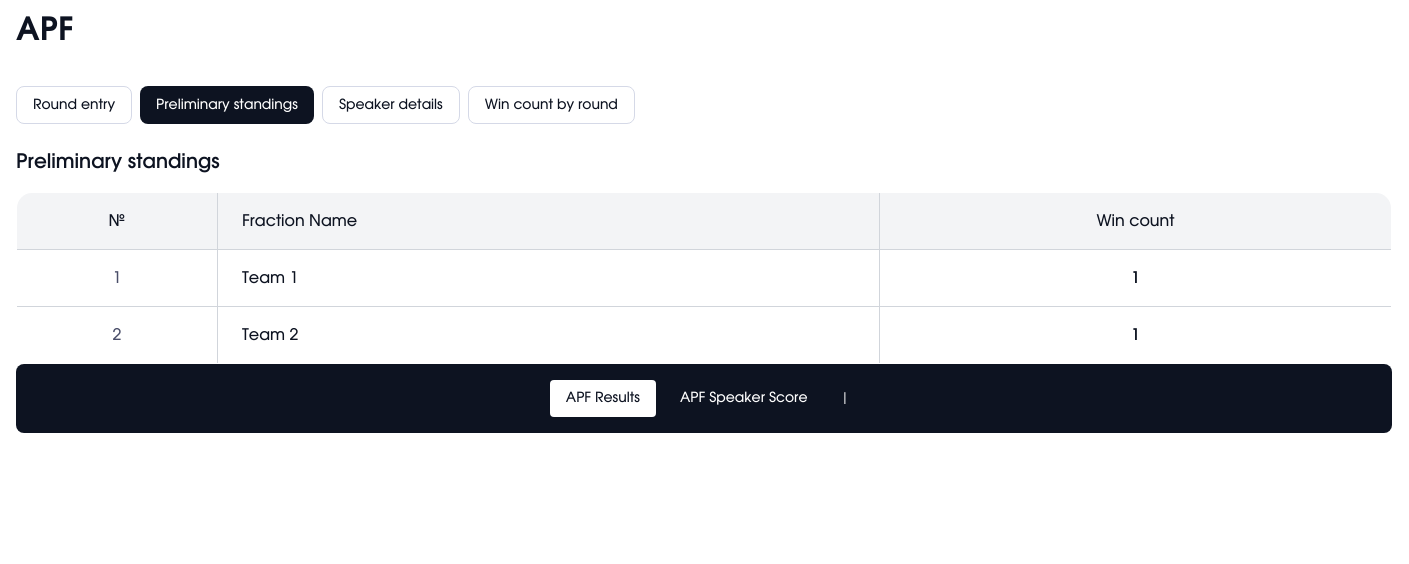
ResultsSection › renders organizer preliminary standings, speaker details, and win count views from all round matches
Check: the element "Preliminary standings" is shown, box [16,148,1392,364]
Check: the text "Team 1" is shown, box [242,270,298,286]
Click the button "Speaker details" at (391, 105), box [322,86,460,124]
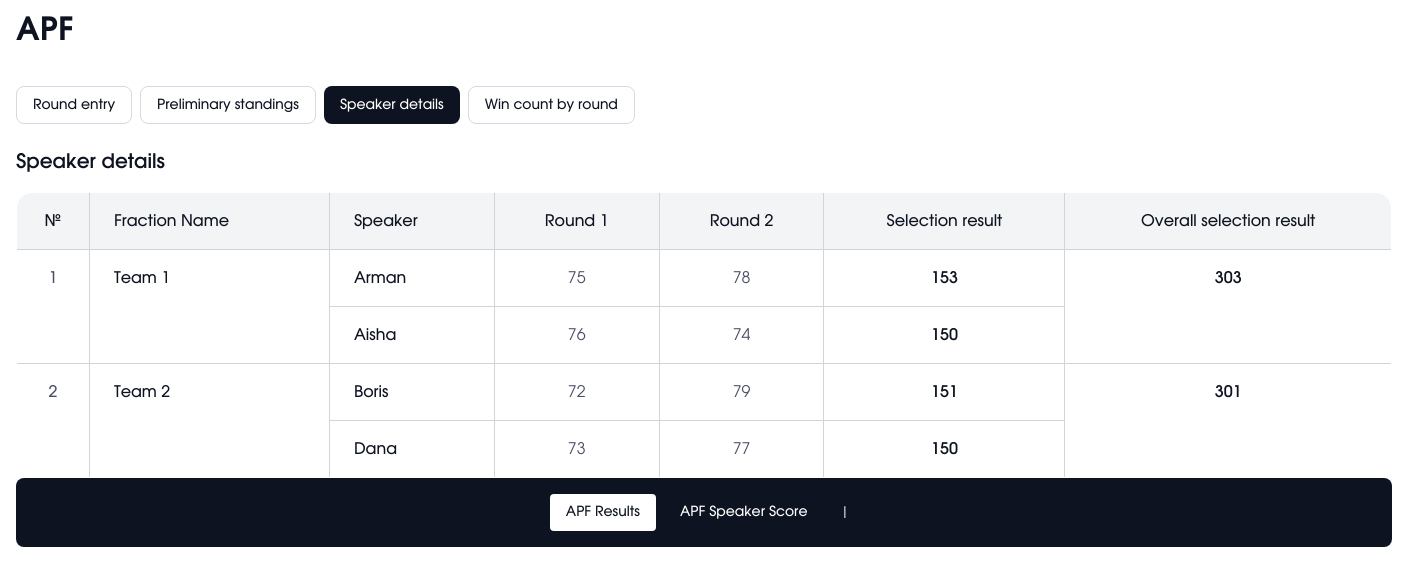
Check: the element "Speaker details" is shown, box [16,148,1392,478]
Check: the text "Arman" is shown, box [354,270,406,286]
Click the button "Win count by round" at (551, 105), box [468,86,635,124]
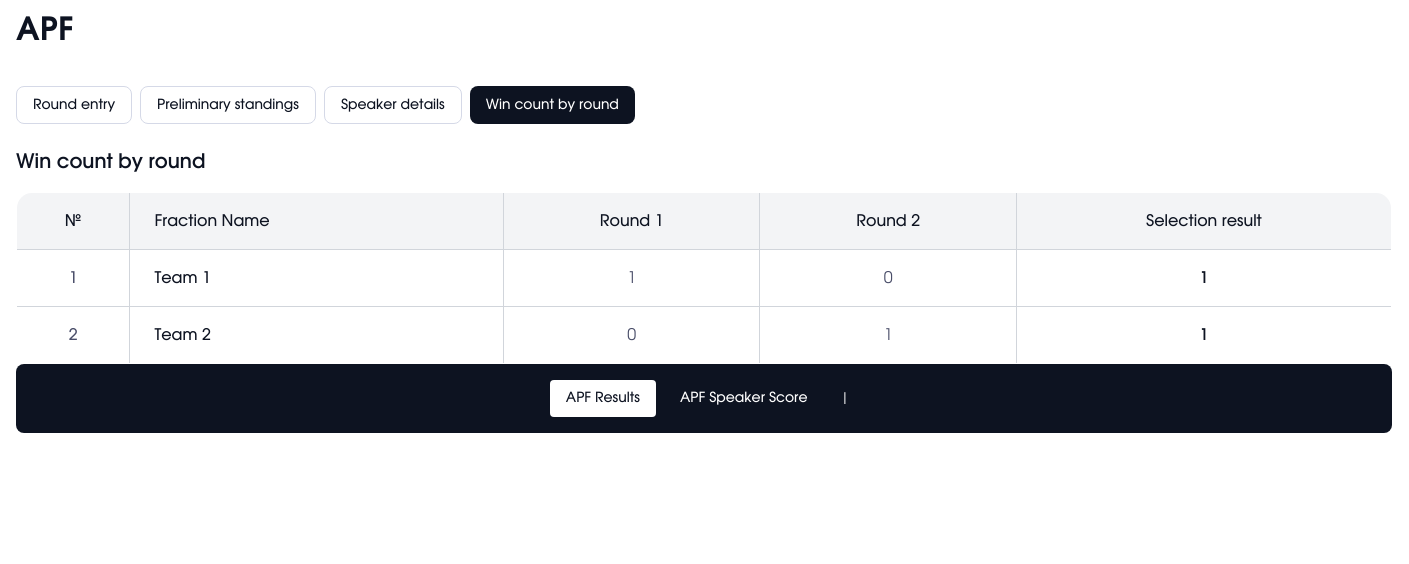
Check: the element "Win count by round" is shown, box [16,148,1392,364]
Check: the text "Team 1" is shown, box [154,270,211,286]
Check: the cells read "1", "Team 1", "1", "0", "1", in this order, box [16,250,130,306]; [130,250,503,306]; [504,250,760,306]; [760,250,1016,306]; [1016,250,1392,306]
